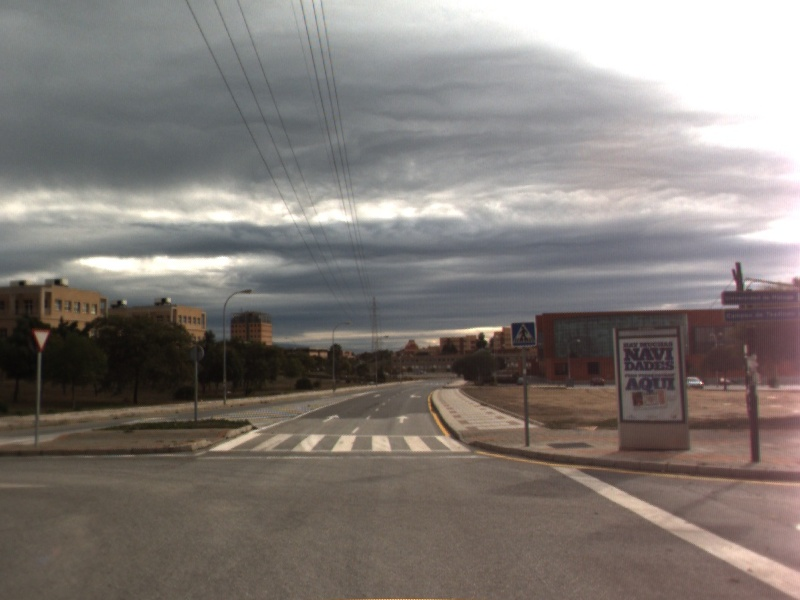STRAIGHT: (320, 412, 342, 425), (393, 413, 411, 425)
